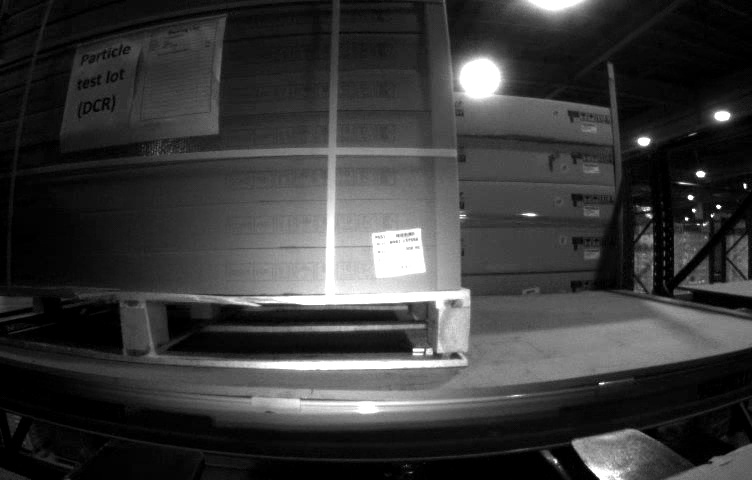True Barcode: (371, 226, 429, 277)
